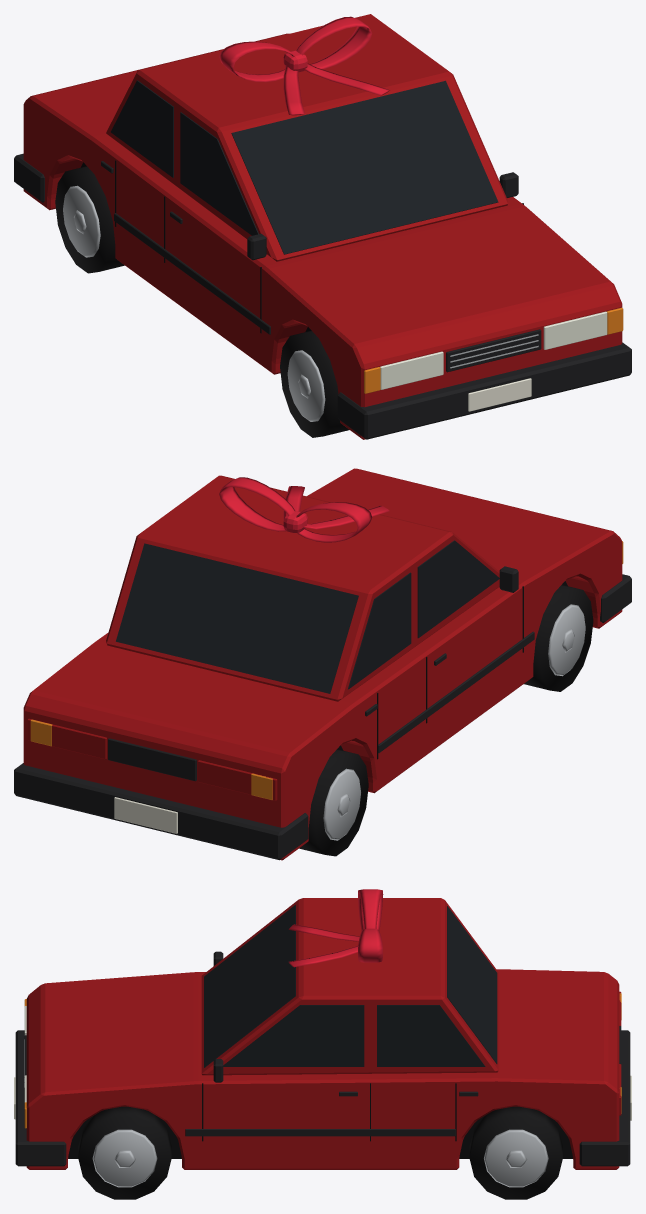
The model's file is Carro.fbx.
3 renders of one model, top to bottom at view 1: azimuth 30°, elevation 25°; view 2: azimuth 150°, elevation 25°; view 3: azimuth 270°, elevation 25°, orthographic. The views are drawn at different scales.
Parts seen in each view (by area): view 1: Carro; view 2: Carro; view 3: Carro.
Part boxes in pixels (x1,y1,x2,y2): Carro: (14, 14, 631, 439); Carro: (14, 468, 631, 860); Carro: (14, 889, 631, 1199).
Size of the model in its own units: 1.7 by 1.6 by 3.9.
